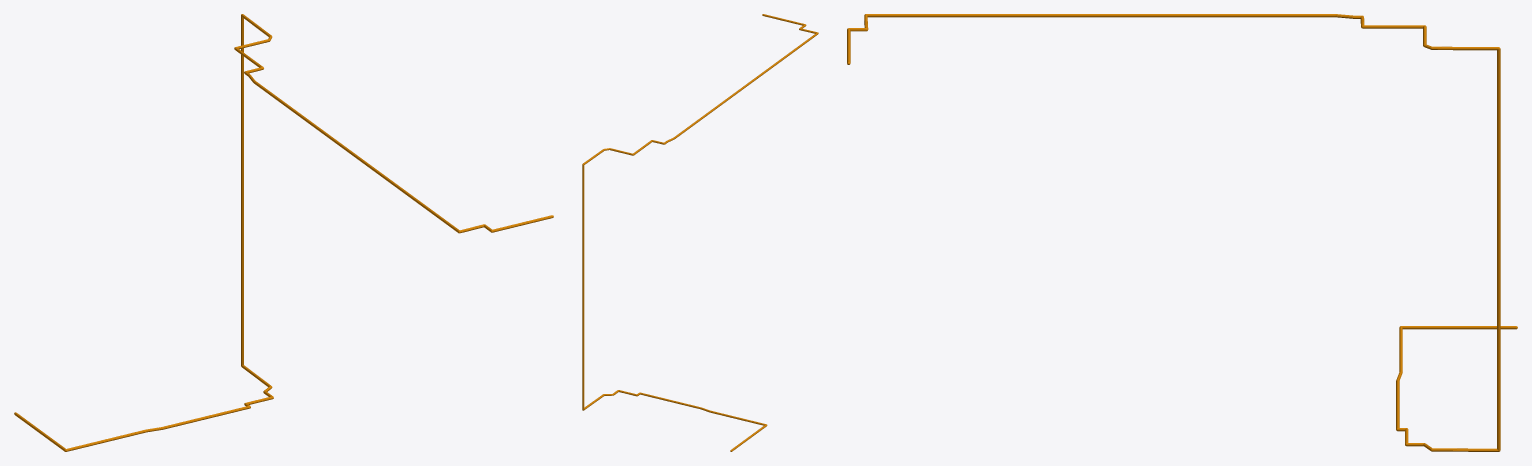
The picture shows the model from 3 angles, left to right: view 1: azimuth 30°, elevation 25°; view 2: azimuth 150°, elevation 25°; view 3: azimuth 270°, elevation 25°; orthographic projection. The views are drawn at different scales.
Size of the model in its own units: 1853 by 2520 by 3786.
